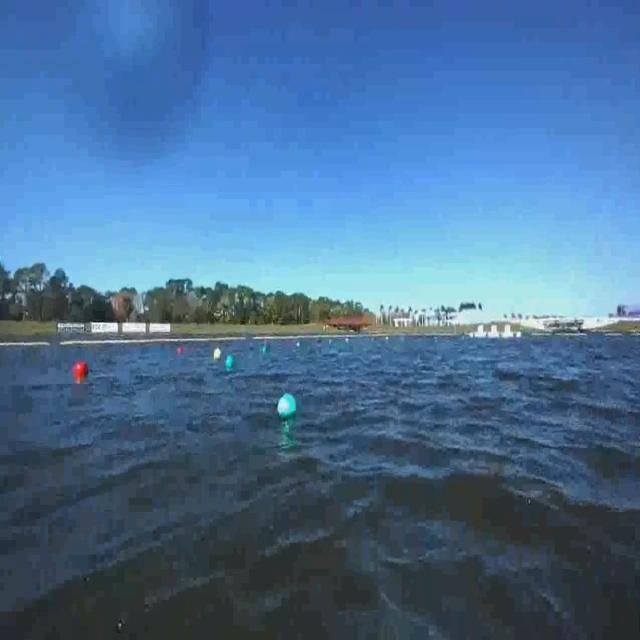green-buoy: (278, 394, 298, 420), (225, 354, 234, 370)
red-buoy: (74, 360, 90, 377)
yellow-buoy: (213, 348, 222, 361)
